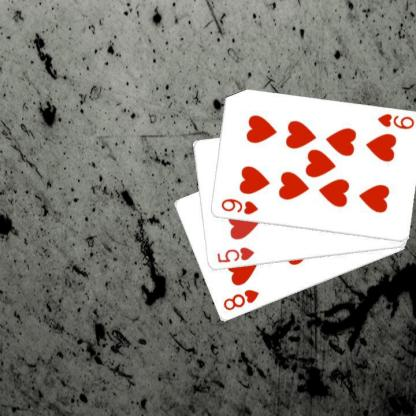5H: (214, 245, 255, 265)
8H: (220, 287, 261, 312)
9H: (374, 111, 415, 131), (218, 197, 259, 216)
